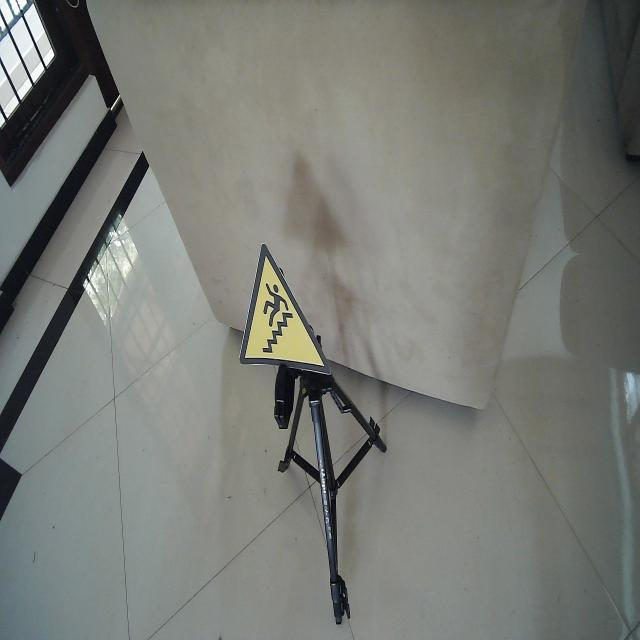stairs: (237, 240, 333, 378)
